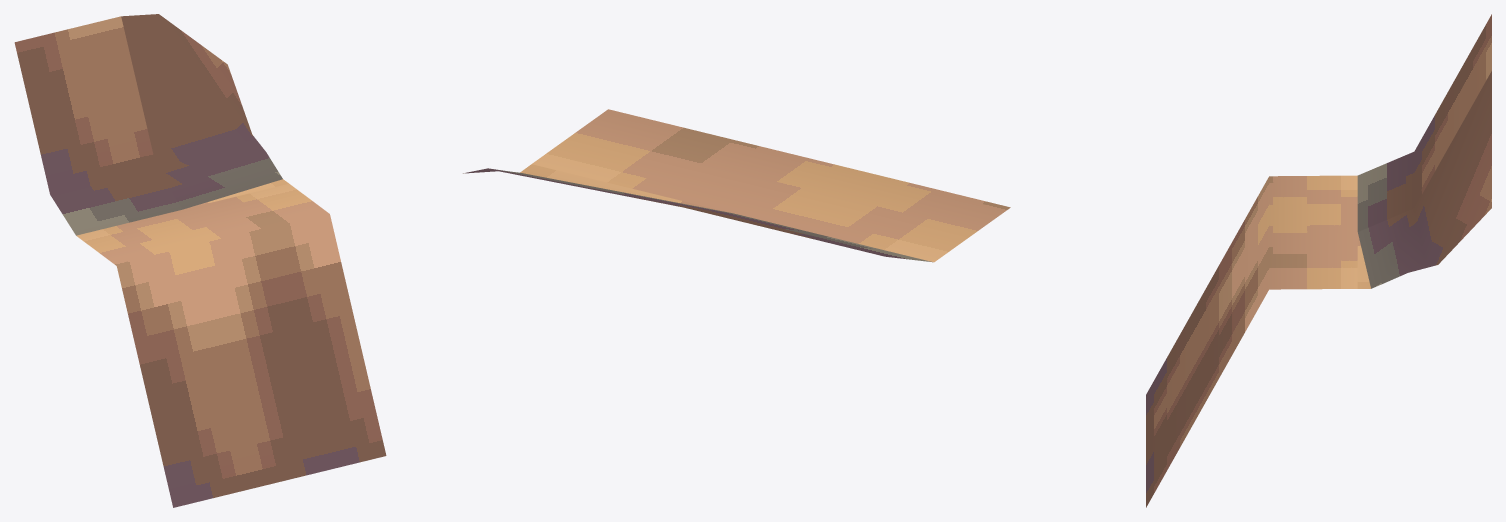
The picture shows the model from 3 angles, left to right: view 1: azimuth 30°, elevation 25°; view 2: azimuth 150°, elevation 25°; view 3: azimuth 270°, elevation 25°; orthographic projection. The views are drawn at different scales.
Size of the model in its own units: 1 by 1.57 by 1.29.
Materials: 2 (2 with a texture image).
